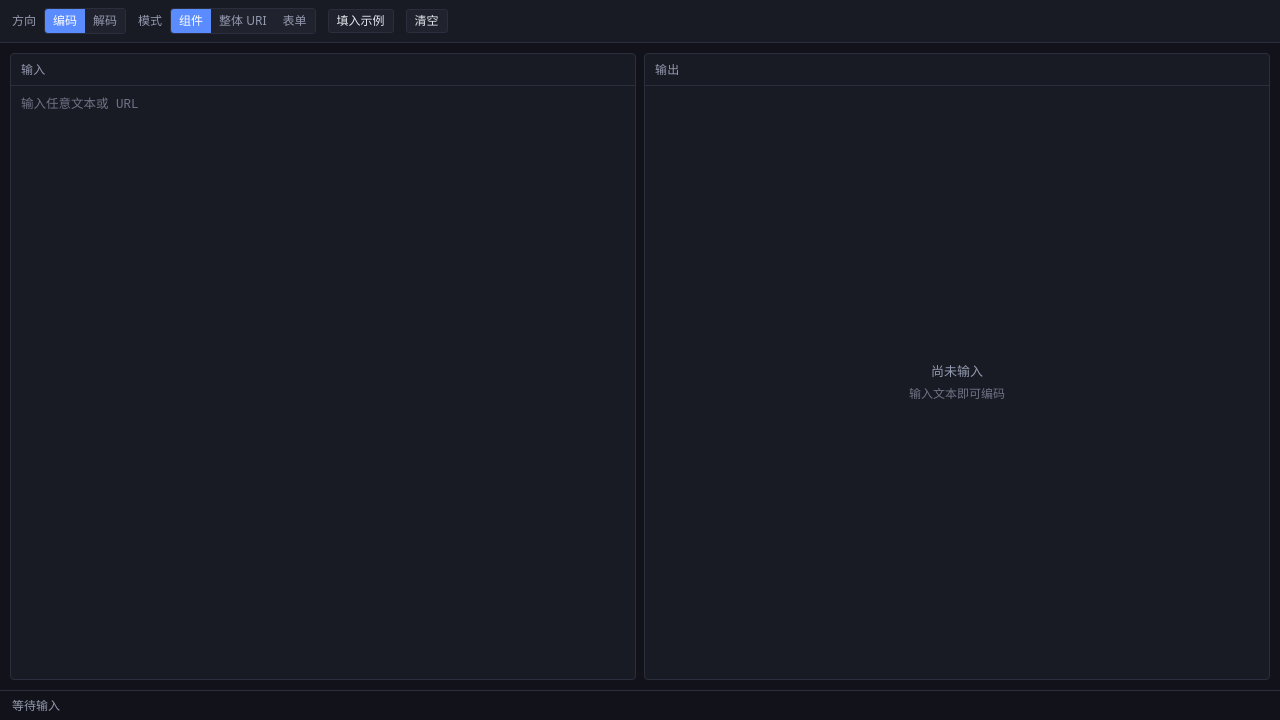
Scenario: URL 编码/解码工具 › 默认组件模式编码 a b&c=d
Step 1. Type "a b&c=d" into the text box named "待处理的文本" → coordinates (323, 190), box top-left (11, 86), bottom-right (635, 294)
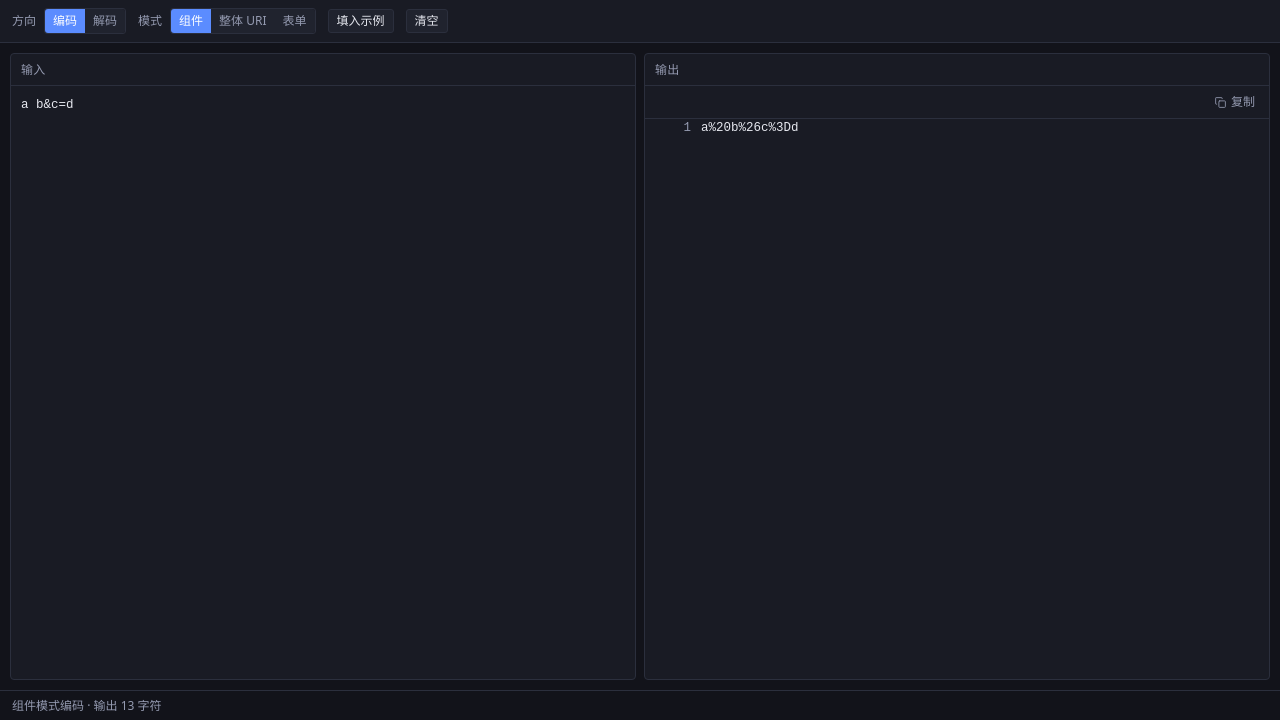
Expected: the button "复制" is shown, top-left (1206, 90), bottom-right (1263, 114)
